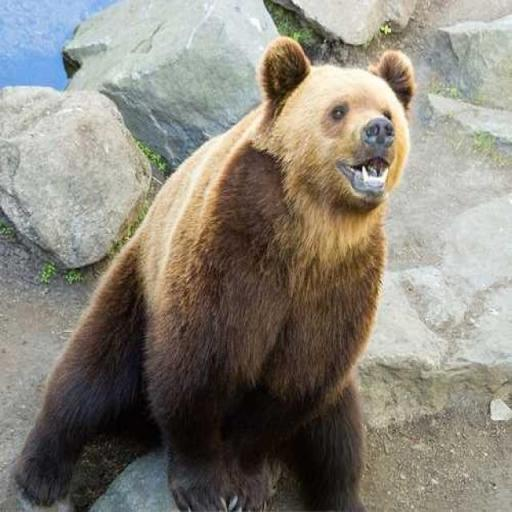Bear: (13, 34, 415, 511)
